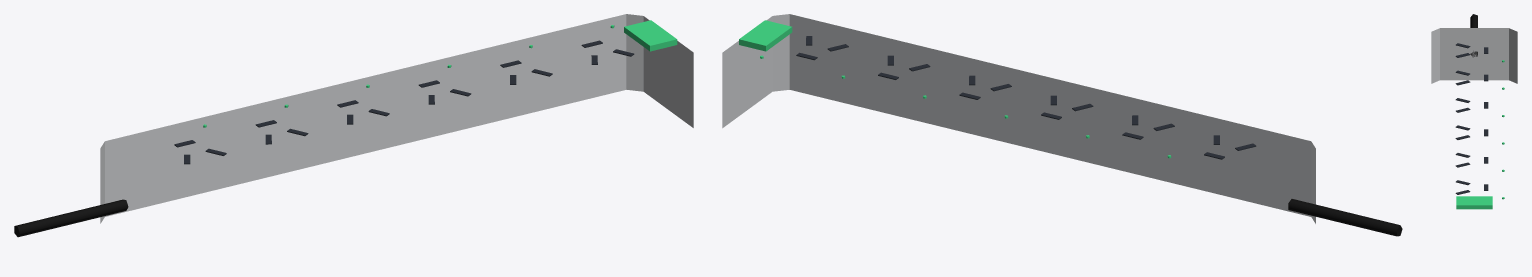
The model's file is power-strip-6way.glb.
3 renders of one model, left to right at view 1: azimuth 30°, elevation 25°; view 2: azimuth 150°, elevation 25°; view 3: azimuth 270°, elevation 25°, orthographic. The views are drawn at different scales.
Parts seen in each view (by area): view 1: strip_body, strip_cord, strip_switch; view 2: strip_body, strip_cord, strip_switch; view 3: strip_body, strip_switch, strip_cord, strip_socket_4, strip_socket_2, strip_socket_1, strip_socket_3, strip_socket_5, strip_socket_6.
Boxes of the visible parts, left/top/right/bottom form: strip_body: left=100, top=14, right=693, bottom=223; strip_cord: left=14, top=199, right=128, bottom=237; strip_switch: left=624, top=20, right=677, bottom=51; strip_body: left=722, top=14, right=1315, bottom=223; strip_cord: left=1288, top=199, right=1402, bottom=236; strip_switch: left=739, top=20, right=792, bottom=51; strip_body: left=1431, top=28, right=1517, bottom=83; strip_switch: left=1456, top=196, right=1492, bottom=209; strip_cord: left=1470, top=14, right=1477, bottom=57; strip_socket_4: left=1455, top=125, right=1488, bottom=139; strip_socket_2: left=1455, top=70, right=1488, bottom=85; strip_socket_1: left=1455, top=43, right=1488, bottom=57; strip_socket_3: left=1455, top=98, right=1488, bottom=112; strip_socket_5: left=1455, top=153, right=1488, bottom=167; strip_socket_6: left=1455, top=180, right=1488, bottom=194.
Size of the model in its own units: 0.36 by 0.043 by 0.06.
